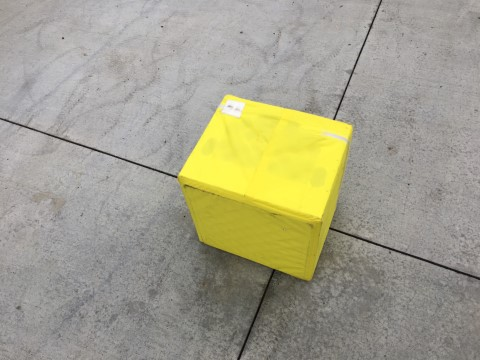cube: (177, 92, 353, 282)
